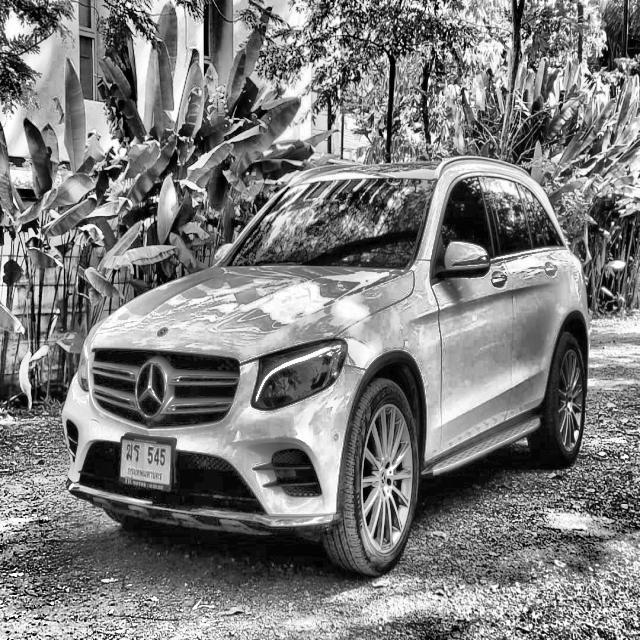license-plate: (118, 431, 174, 489)
